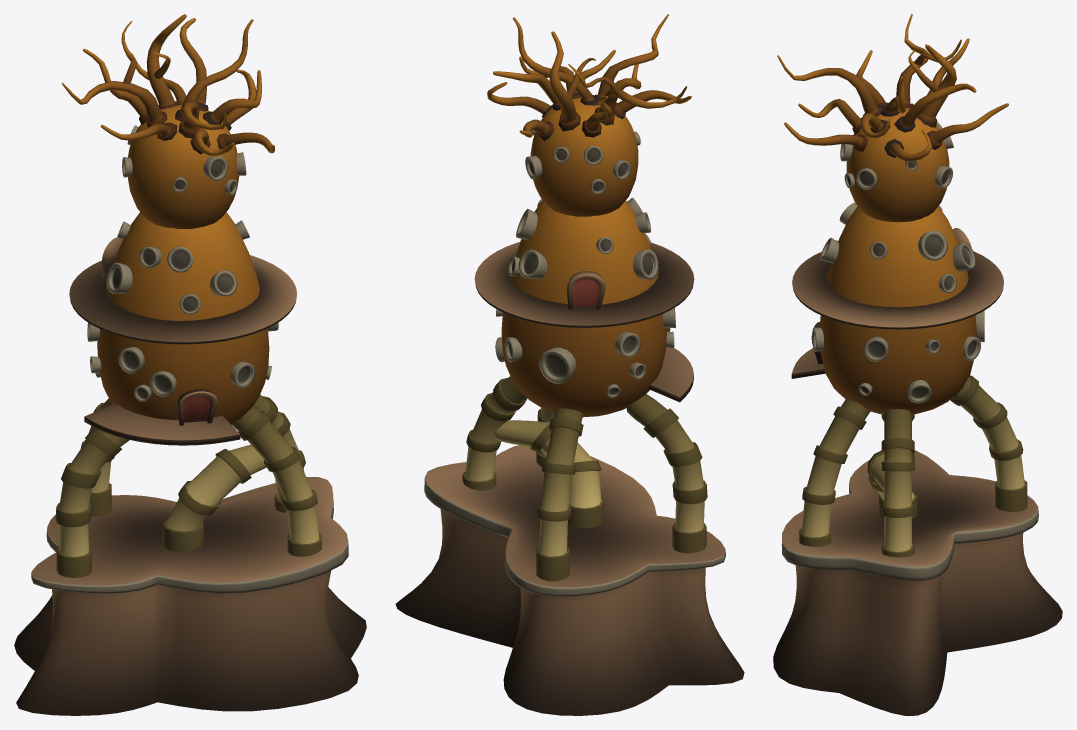
Rendered from HIVE_B.fbx.
3 views of the same model, side by side, from view 1: azimuth 30°, elevation 25°; view 2: azimuth 150°, elevation 25°; view 3: azimuth 270°, elevation 25° (orthographic). The views are drawn at different scales.
Parts seen in each view (by area): view 1: HIVE_B; view 2: HIVE_B; view 3: HIVE_B.
Part boxes in pixels (box(x1,y1,x2,y2)): HIVE_B: box(14, 14, 366, 715); HIVE_B: box(395, 14, 744, 715); HIVE_B: box(773, 14, 1062, 715).
Bounding box in the file's own units: 23.89 × 41.59 × 18.35.
